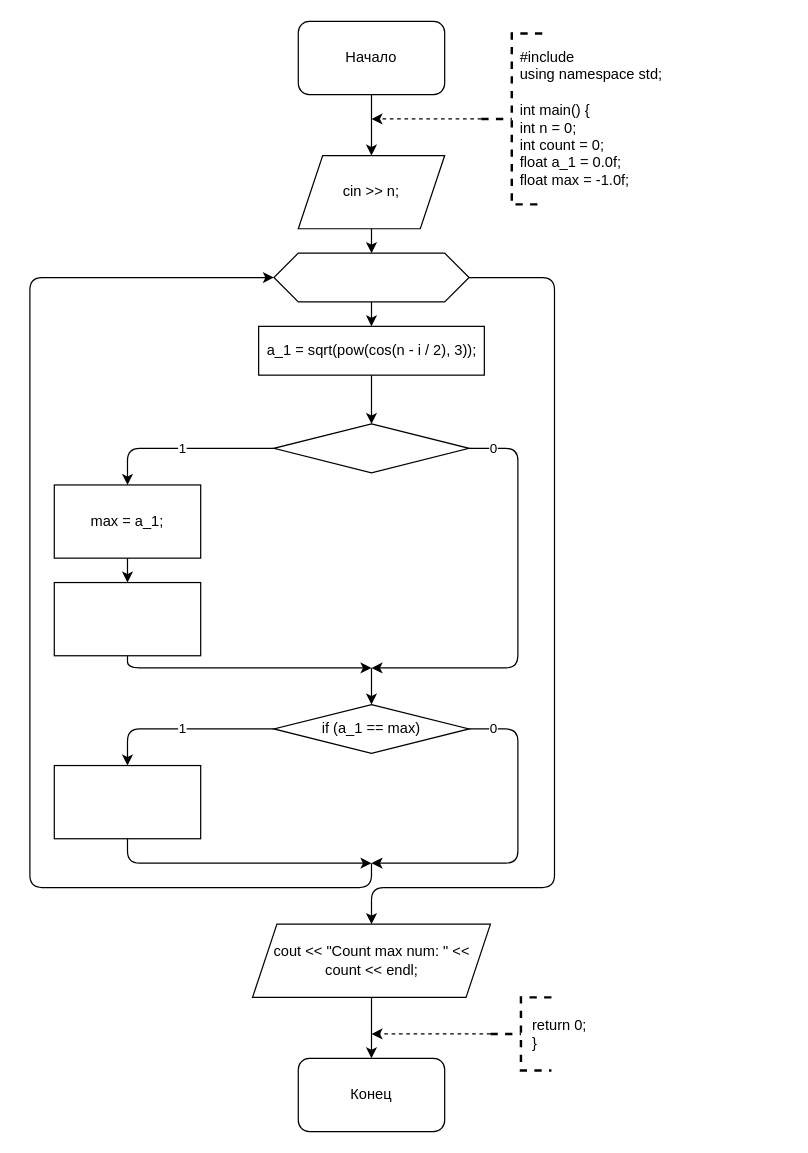
Some shapes in this 808 by 1153 pixel diagram are drawn without their labels. Each missing label, with the centre of its shape:
"++count;" belongs at pixel 127 801.
"count = 0;" belongs at pixel 127 618.
"for (int i = 0; i < n; ++i)" belongs at pixel 371 277.
"if (a_1 > max)" belongs at pixel 371 448.
